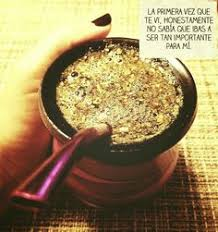guampa: (10, 27, 195, 211)
